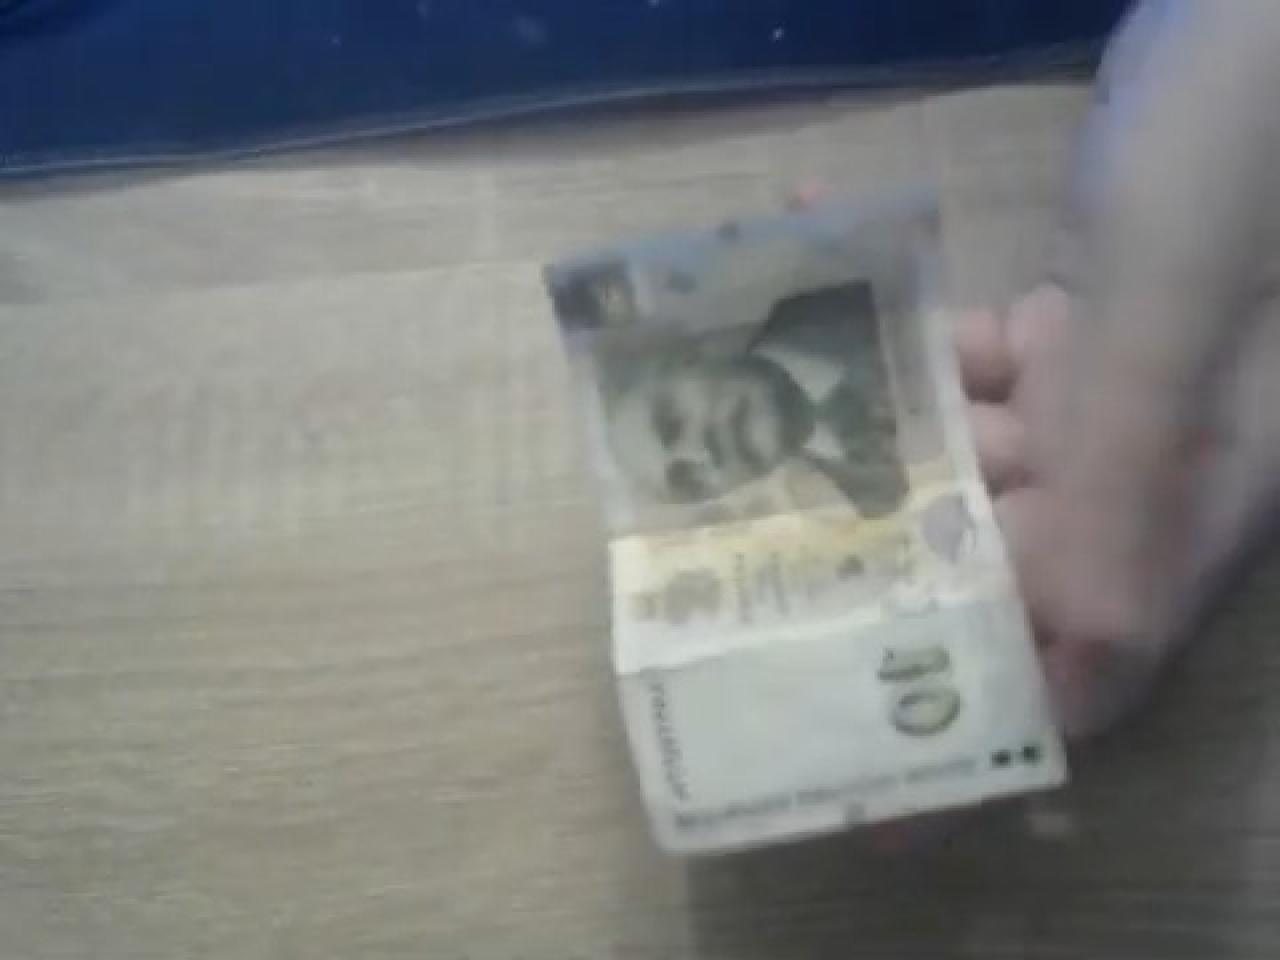10leva: (541, 203, 1069, 864)
